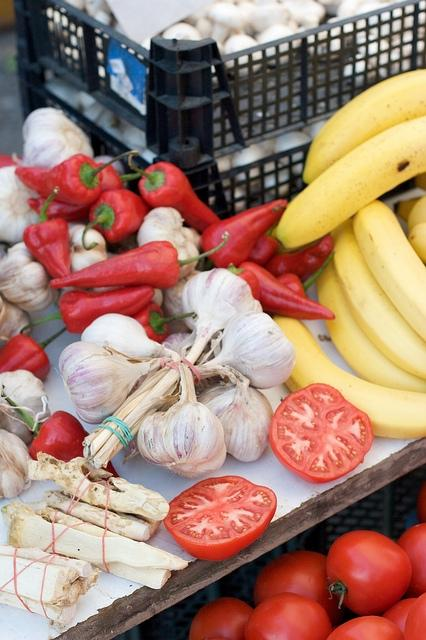banana: (275, 114, 426, 250), (273, 314, 426, 439), (315, 257, 426, 393), (333, 222, 426, 381), (303, 69, 426, 184), (352, 199, 426, 343), (407, 195, 426, 236), (408, 223, 426, 266), (394, 197, 421, 223)
garlic: (138, 362, 226, 480), (58, 340, 174, 424), (181, 268, 263, 365), (193, 364, 274, 462), (198, 311, 296, 389), (12, 107, 93, 168), (136, 207, 202, 280), (82, 313, 180, 362), (161, 326, 224, 399), (0, 241, 59, 312), (0, 166, 41, 243), (1, 369, 52, 421), (0, 428, 31, 498), (68, 224, 108, 274), (0, 296, 30, 350), (93, 286, 164, 308), (93, 154, 128, 190), (162, 277, 188, 317)
tomato: (269, 383, 374, 484), (163, 476, 276, 561), (326, 530, 412, 616), (254, 550, 346, 628), (244, 592, 332, 640), (189, 597, 254, 640), (396, 524, 426, 598), (327, 616, 404, 640), (382, 597, 418, 634), (404, 593, 426, 640), (417, 481, 426, 524)
